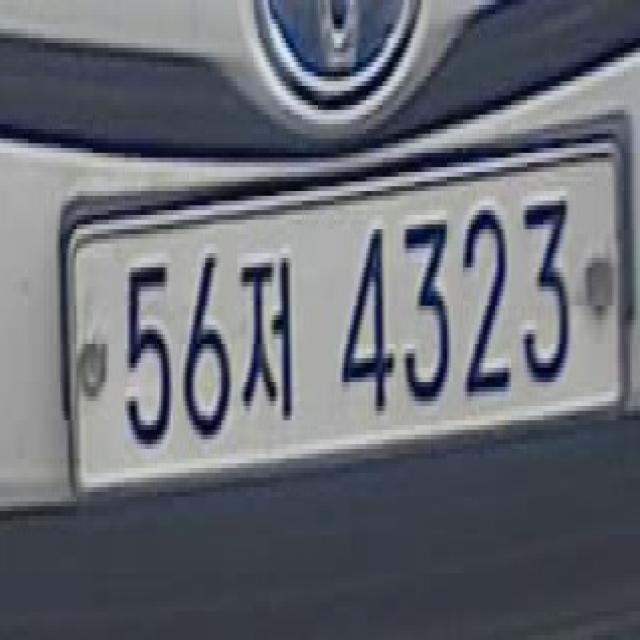2: (459, 192, 514, 396)
3: (520, 190, 572, 388), (400, 212, 452, 408)
4: (339, 214, 394, 428)
5: (122, 254, 174, 454)
6: (180, 240, 230, 447)
jeo: (236, 239, 295, 438)
license_plate: (45, 99, 637, 559)
